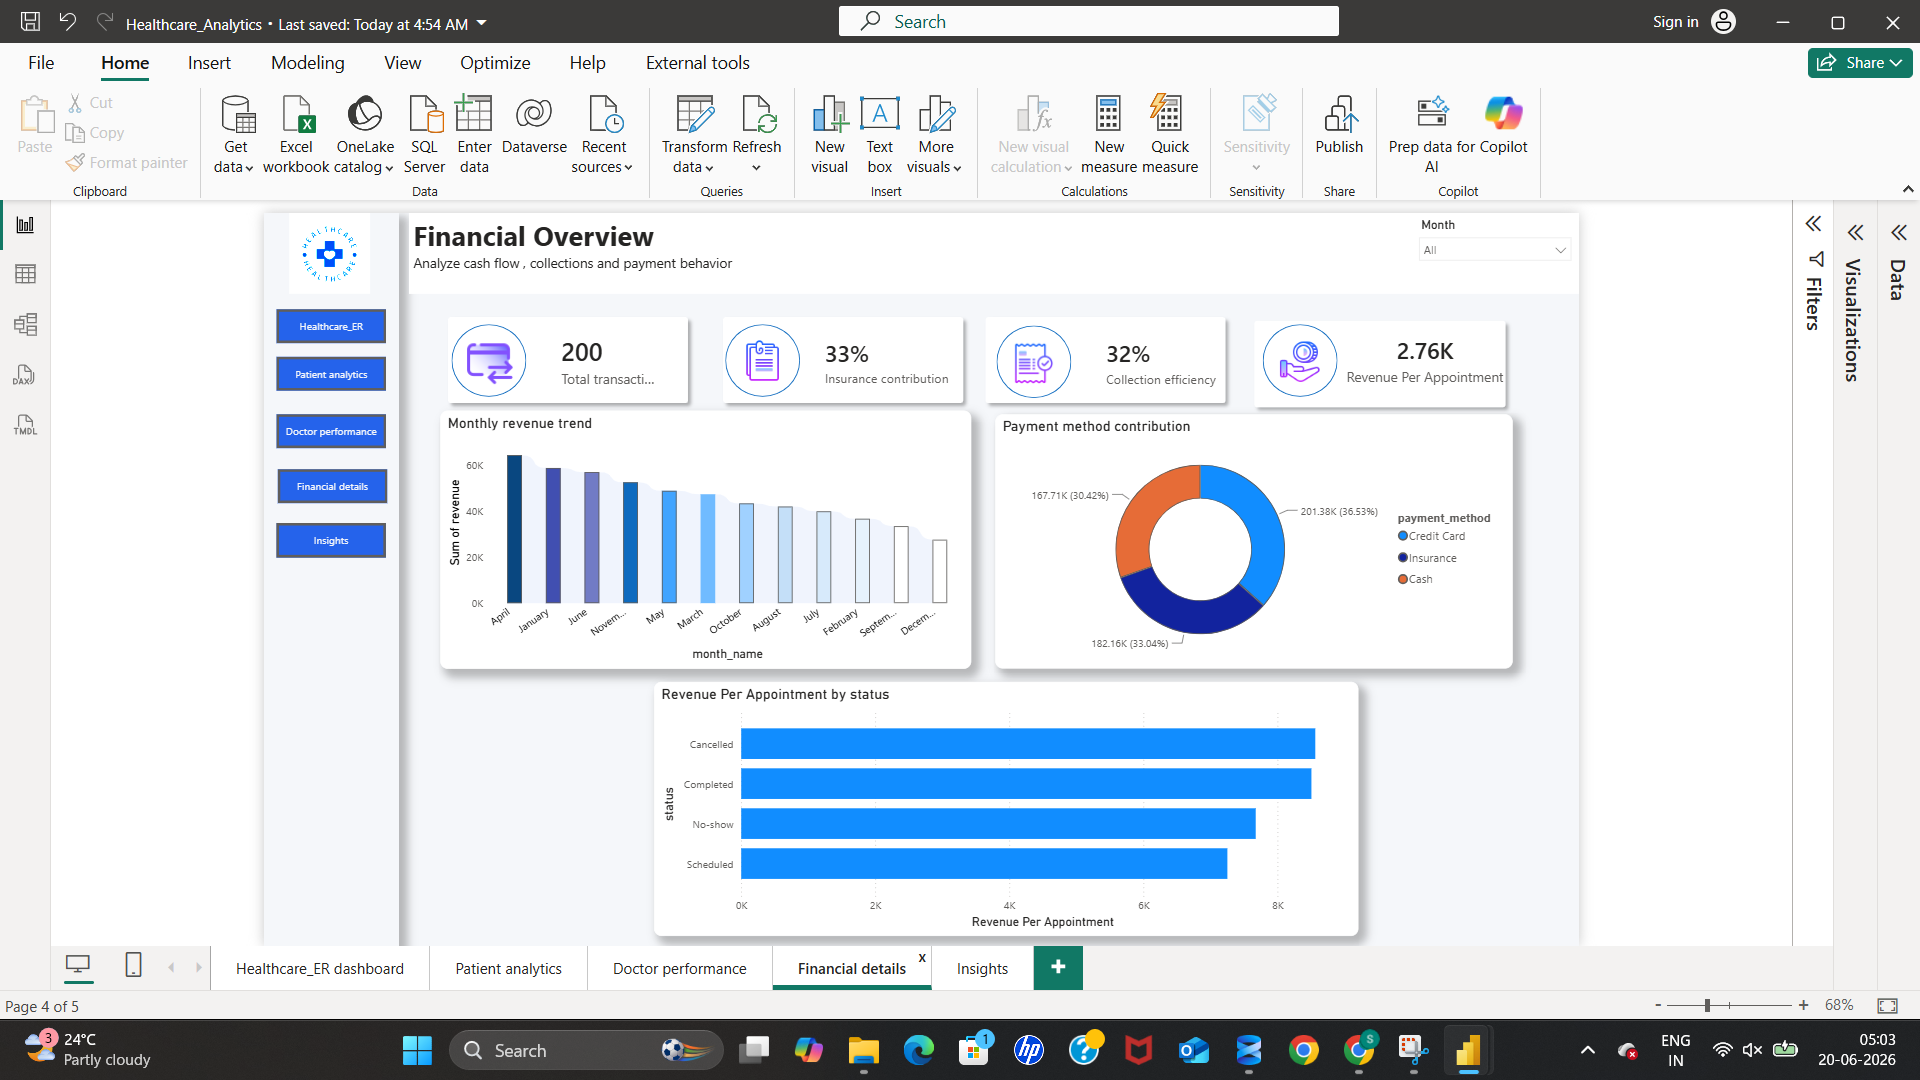

Layout of this report page (visuals, bound fields, positions):
{"tool":"powerbi","page":{"name":"Financial details","canvas":[1548,863],"ordinal":3},"visuals":[{"type":"shape","title":"Healthcare analytics","box":[0,0,159.3,863],"z":0},{"type":"image","box":[8.4,0,136.3,95.3],"z":1000},{"type":"actionButton","box":[14.5,168.9,129.1,39.8],"z":2000},{"type":"actionButton","box":[14.5,236.5,129.1,39.8],"z":3000},{"type":"actionButton","box":[15.7,301.6,129.1,39.8],"z":4000},{"type":"textbox","box":[170.6,0,1378.1,95.4],"z":5000},{"type":"slicer","fields":{"Values":["monthly_rev.month_name"]},"box":[1348.6,0,199.7,63.3],"z":6000},{"type":"shape","box":[207.5,113.4,300.4,119.4],"z":7000},{"type":"shape","box":[531,113.8,300.7,119.2],"z":8000},{"type":"shape","box":[839.7,113.4,300.4,119.4],"z":9000},{"type":"shape","box":[1155.4,117.1,313.8,120],"z":10000},{"type":"shape","box":[220.8,131.4,88,85.3],"z":11000},{"type":"shape","box":[543.1,131.4,88,85.3],"z":12000},{"type":"shape","box":[861.4,132.7,88,85.3],"z":13000},{"type":"shape","box":[1174.3,131.4,88,85.3],"z":14000},{"type":"image","box":[1190.1,143.2,57.8,65.1],"z":15000},{"type":"image","box":[558,140.9,58.2,65],"z":16000},{"type":"cardVisual","fields":{"Data":["billing.total revenue"]},"box":[319.7,127.3,174.7,92.1],"z":17000},{"type":"cardVisual","fields":{"Data":["billing.Total transaction"]},"box":[321,128.7,174.7,92.1],"z":18000},{"type":"cardVisual","fields":{"Data":["appointments.Revenue Per Appointment"]},"box":[1229.1,124.4,273.3,96.9],"z":19000},{"type":"cardVisual","fields":{"Data":["billing.Collection efficiency %"]},"box":[961.6,130.1,193.8,94],"z":20000},{"type":"cardVisual","fields":{"Data":["billing.Insurance contribution %"]},"box":[631.2,123.3,253.3,104.3],"z":21000},{"type":"ribbonChart","title":"Monthly revenue trend","fields":{"Category":["monthly_rev.month_name"],"Y":["Sum(monthly_rev.revenue)"]},"box":[206.8,232.8,624.7,303.7],"z":22000},{"type":"donutChart","title":"Payment method contribution","fields":{"Category":["billing.payment_method"],"Y":["billing.total revenue"]},"box":[860.4,237.2,608.8,299.3],"z":23000},{"type":"clusteredBarChart","fields":{"Category":["appointments.status"],"Y":["appointments.Revenue Per Appointment"]},"box":[458.4,550.9,828.6,299.3],"z":24000},{"type":"actionButton","title":"Executive dashboard","box":[14.5,113.4,129.1,39.8],"z":25000},{"type":"image","box":[235.7,140.3,57.8,65.1],"z":26000},{"type":"image","box":[876.3,144.6,57.8,65.1],"z":27000},{"type":"actionButton","box":[14.5,364.4,128.7,40.5],"z":28000}]}

Visuals, with their boxes on the page's 1548x863 design canvas (x1, y1, x2, y2). These are canvas units, not pixel positions in the 1920x1080 screenshot, which may show the page scaled, cropped or inside an application window:
"Healthcare analytics" shape: x1=0, y1=0, x2=159, y2=863
image: x1=8, y1=0, x2=145, y2=95
actionButton: x1=14, y1=169, x2=144, y2=209
actionButton: x1=14, y1=236, x2=144, y2=276
actionButton: x1=16, y1=302, x2=145, y2=341
textbox: x1=171, y1=0, x2=1549, y2=95
slicer - monthly_rev.month_name: x1=1349, y1=0, x2=1548, y2=63
shape: x1=208, y1=113, x2=508, y2=233
shape: x1=531, y1=114, x2=832, y2=233
shape: x1=840, y1=113, x2=1140, y2=233
shape: x1=1155, y1=117, x2=1469, y2=237
shape: x1=221, y1=131, x2=309, y2=217
shape: x1=543, y1=131, x2=631, y2=217
shape: x1=861, y1=133, x2=949, y2=218
shape: x1=1174, y1=131, x2=1262, y2=217
image: x1=1190, y1=143, x2=1248, y2=208
image: x1=558, y1=141, x2=616, y2=206
cardVisual - billing.total revenue: x1=320, y1=127, x2=494, y2=219
cardVisual - billing.Total transaction: x1=321, y1=129, x2=496, y2=221
cardVisual - appointments.Revenue Per Appointment: x1=1229, y1=124, x2=1502, y2=221
cardVisual - billing.Collection efficiency %: x1=962, y1=130, x2=1155, y2=224
cardVisual - billing.Insurance contribution %: x1=631, y1=123, x2=884, y2=228
"Monthly revenue trend" ribbonChart: x1=207, y1=233, x2=832, y2=536
"Payment method contribution" donutChart: x1=860, y1=237, x2=1469, y2=536
clusteredBarChart - appointments.status x appointments.Revenue Per Appointment: x1=458, y1=551, x2=1287, y2=850
"Executive dashboard" actionButton: x1=14, y1=113, x2=144, y2=153
image: x1=236, y1=140, x2=294, y2=205
image: x1=876, y1=145, x2=934, y2=210
actionButton: x1=14, y1=364, x2=143, y2=405
